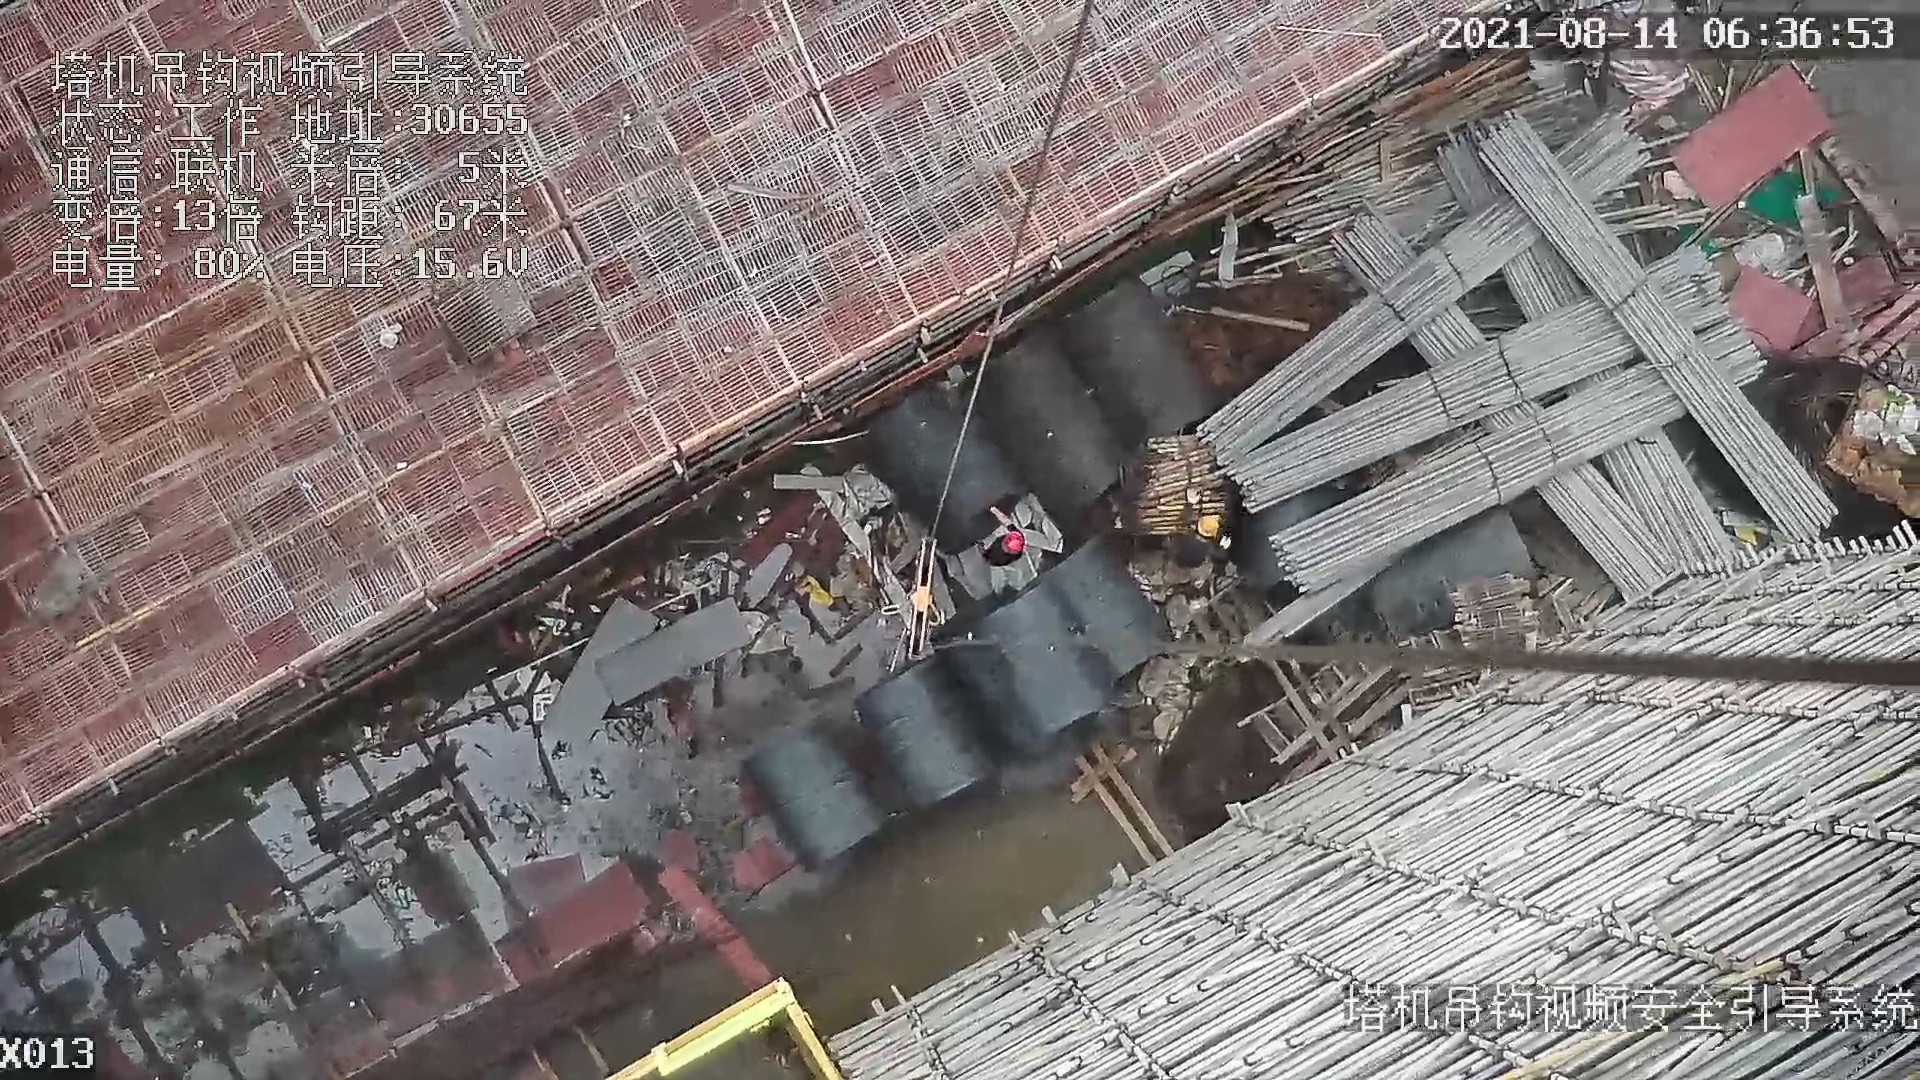helmet: (1197, 512, 1220, 543), (1004, 527, 1025, 560)
hook: (905, 541, 947, 655)
person: (1162, 494, 1233, 573), (979, 503, 1032, 565)
scaffold: (1240, 106, 1832, 627), (1110, 417, 1244, 574)
